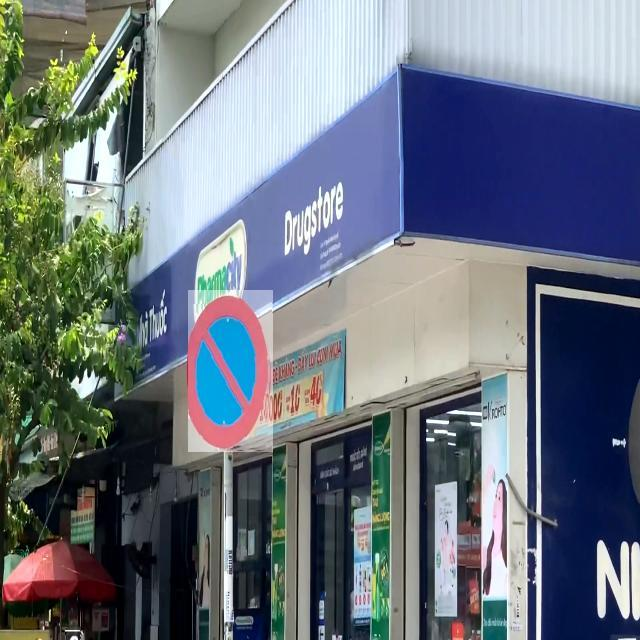P-131a: (188, 290, 273, 452)
